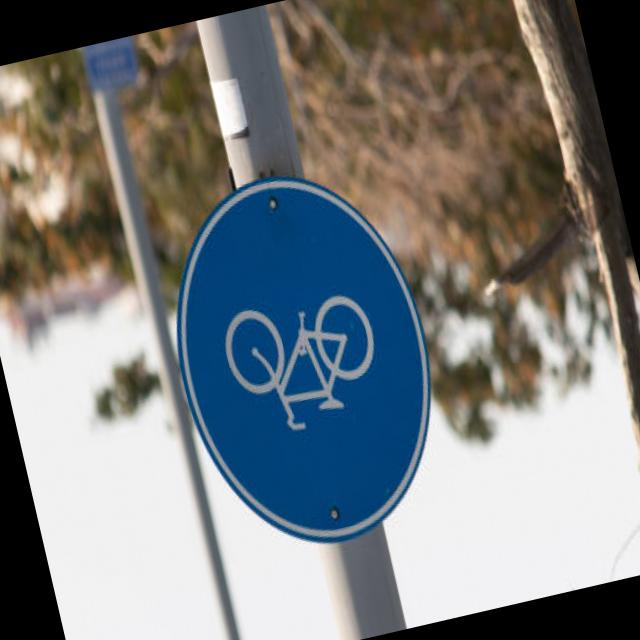bicycle: (146, 158, 477, 589)
